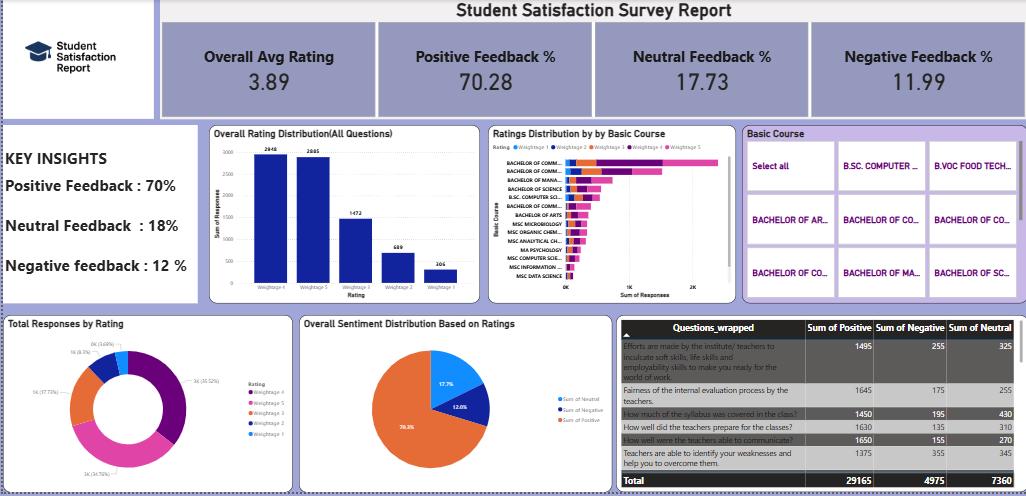

What the dashboard file says about the page in this screenshot:
{"tool":"powerbi","page":{"name":"Student Satisfaction Dashboard","canvas":[2500,1200],"ordinal":0},"visuals":[{"type":"cardVisual","title":"Student Satisfaction Survey Report","fields":{"Data":["FinalData.Overall Avg Rating","FinalData.Positive Feedback %","FinalData.Neutral Feedback %","FinalData.Negative Feedback %"]},"box":[382.8,0,2117.2,290.8],"z":0},{"type":"clusteredColumnChart","title":"Overall Rating Distribution(All Questions)","fields":{"Category":["FinalData.Rating"],"Y":["Sum(FinalData.Responses)"]},"box":[502.1,305.4,661.1,435.1],"z":1000},{"type":"donutChart","title":"Total Responses by Rating","fields":{"Category":["FinalData.Rating"],"Y":["Sum(FinalData.Responses)"]},"box":[0,767.8,707.1,433.1],"z":2000},{"type":"pieChart","title":"Overall Sentiment Distribution Based on Ratings","fields":{"Y":["Sum(FinalData.Neutral)","Sum(FinalData.Negative)","Sum(FinalData.Positive)"]},"box":[721.8,767.8,763.6,433.1],"z":3000},{"type":"barChart","title":"Ratings Distribution by by Basic Course ","fields":{"Category":["FinalData.Basic Course"],"Series":["FinalData.Rating"],"Y":["Sum(FinalData.Responses)"]},"box":[1182,305.4,604.6,435.1],"z":4000},{"type":"advancedSlicerVisual","fields":{"Values":["FinalData.Basic Course"]},"box":[1803.3,305.4,696.7,435.1],"z":5000},{"type":"tableEx","fields":{"Values":["FinalData.Questions_wrapped","Sum(FinalData.Positive)","Sum(FinalData.Negative)","Sum(FinalData.Neutral)"]},"box":[1495.1,768.3,1004.9,431.7],"z":6000},{"type":"textbox","box":[0,305.4,474.9,435.1],"z":7000},{"type":"image","box":[0,0,368.3,290.2],"z":8000},{"type":"textbox","box":[73.2,200,243.9,58.5],"z":9000}]}

Visuals, with their boxes in screenshot pixels (x1, y1, x2, y2), scaled from the page's 2500x1200 canvas onto the 1026x496 screenshot:
"Student Satisfaction Survey Report" cardVisual: [left=157, top=0, right=1025, bottom=120]
"Overall Rating Distribution(All Questions)" clusteredColumnChart: [left=206, top=126, right=477, bottom=306]
"Total Responses by Rating" donutChart: [left=0, top=317, right=290, bottom=495]
"Overall Sentiment Distribution Based on Ratings" pieChart: [left=296, top=317, right=610, bottom=495]
"Ratings Distribution by by Basic Course " barChart: [left=485, top=126, right=733, bottom=306]
advancedSlicerVisual - FinalData.Basic Course: [left=740, top=126, right=1025, bottom=306]
tableEx - FinalData.Questions_wrapped x Sum(FinalData.Positive): [left=614, top=318, right=1025, bottom=495]
textbox: [left=0, top=126, right=195, bottom=306]
image: [left=0, top=0, right=151, bottom=120]
textbox: [left=30, top=83, right=130, bottom=107]
